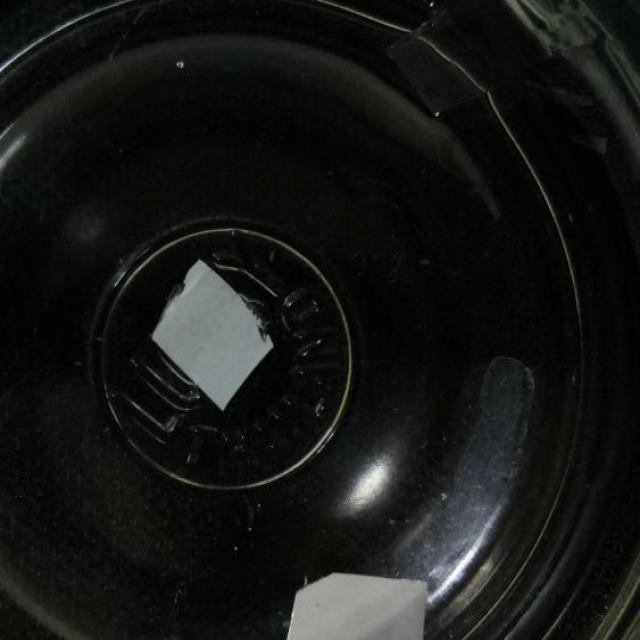fiber: (150, 260, 275, 408), (282, 567, 435, 639)
